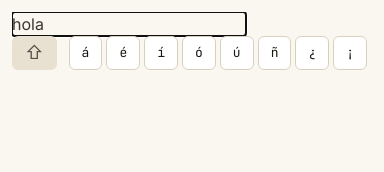
Test: AccentPicker › inserts character at cursor and updates the controlled input
The width and height of the screenshot is (384, 172).
Step 1. Click the button named "insert ñ" → (274, 53), box [258,36,291,70]
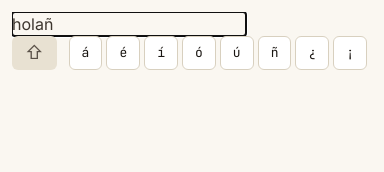
Now the field with test id "target" holds "holañ", box [12,12,246,36]
